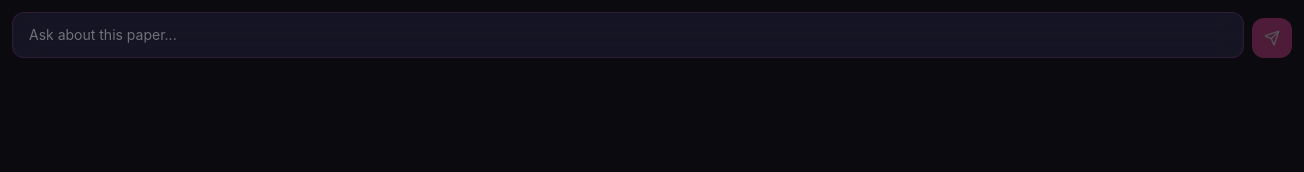
Scenario: ChatInput › clears input after send
Type "Test" into the text box with placeholder "Ask about this paper...". click: {"x": 628, "y": 35}
box: 12,12 -> 1244,58
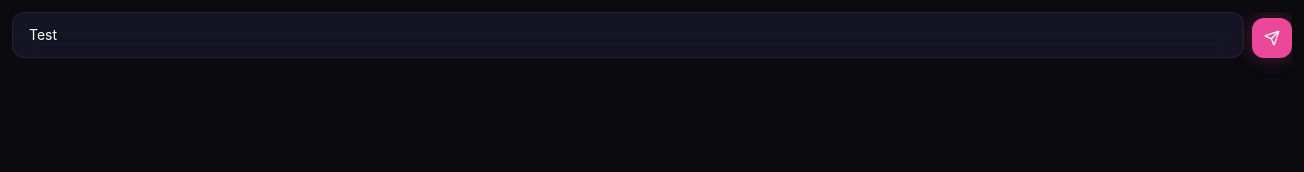
Click the button. click: {"x": 1272, "y": 38}
box: 1252,18 -> 1292,58
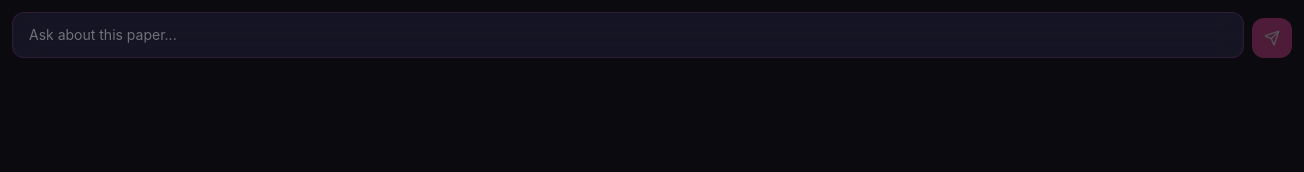
Result: the text box with placeholder "Ask about this paper..." is empty at 12,12 -> 1244,58
